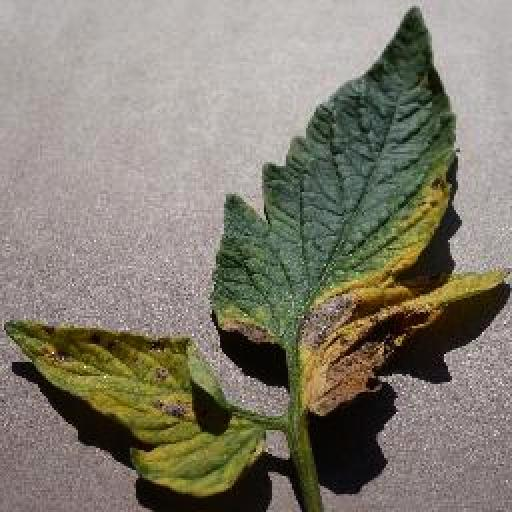Early Blight: (210, 4, 512, 422)
